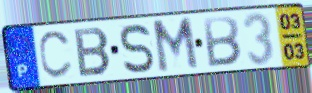3: (242, 8, 277, 68)
B: (202, 14, 243, 69), (72, 27, 113, 79)
C: (37, 28, 75, 81)
M: (150, 15, 201, 76)
S: (119, 22, 156, 75)
